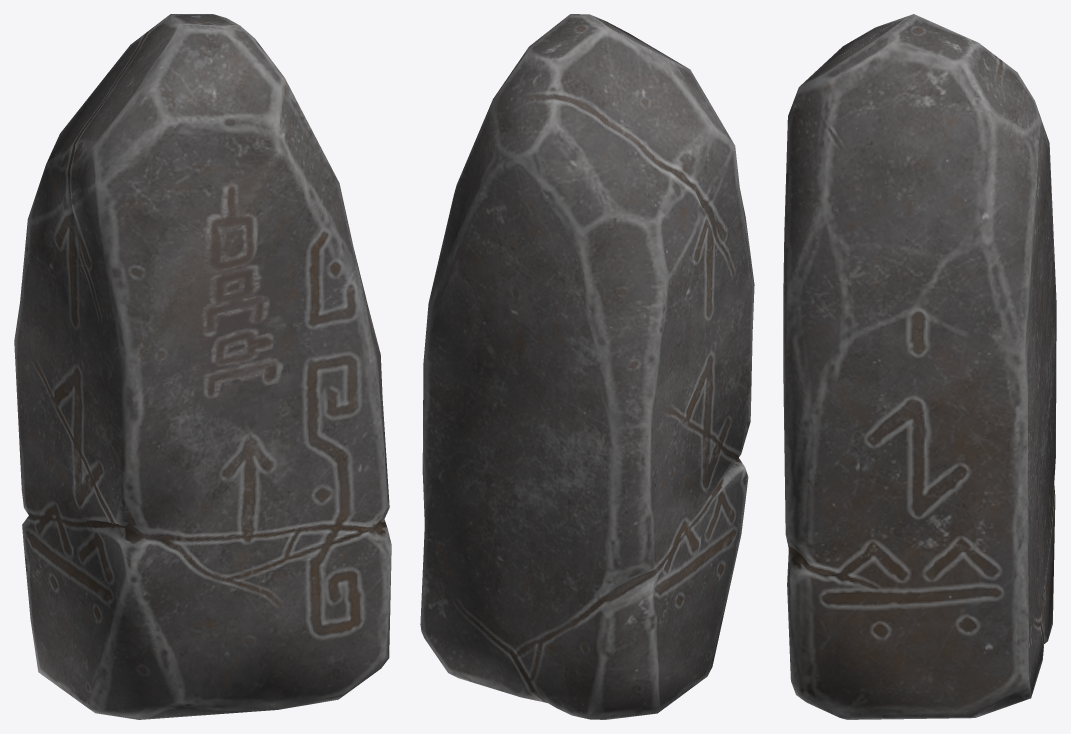
Rendered from ethioston.glb.
3 renders of one model, left to right at view 1: azimuth 30°, elevation 25°; view 2: azimuth 150°, elevation 25°; view 3: azimuth 270°, elevation 25°, orthographic. The views are drawn at different scales.
Parts seen in each view (by area): view 1: AncientRuins_Rock4_M_AncientRuins_Rocks_0; view 2: AncientRuins_Rock4_M_AncientRuins_Rocks_0; view 3: AncientRuins_Rock4_M_AncientRuins_Rocks_0.
Part boxes in pixels (x1,y1,x2,y2): AncientRuins_Rock4_M_AncientRuins_Rocks_0: (14,14,391,719); AncientRuins_Rock4_M_AncientRuins_Rocks_0: (420,14,754,719); AncientRuins_Rock4_M_AncientRuins_Rocks_0: (783,14,1056,719).
Bounding box in the file's own units: 4.11 × 9.97 × 3.85.
Materials: 1 (1 with a texture image).
